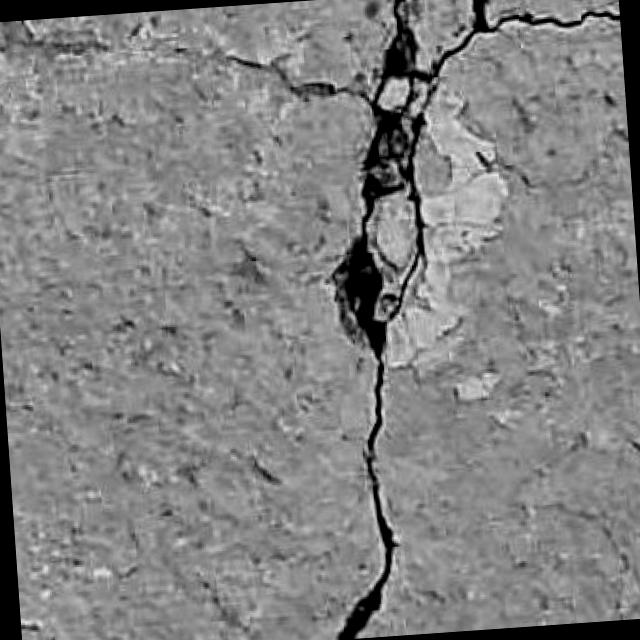crack: (332, 0, 619, 639), (337, 358, 395, 639), (222, 53, 369, 105)
